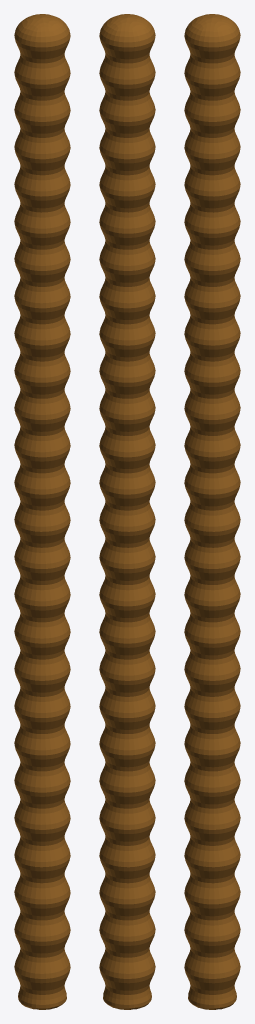
File: rope_model.fbx
The picture shows the model from 3 angles, left to right: view 1: azimuth 30°, elevation 25°; view 2: azimuth 150°, elevation 25°; view 3: azimuth 330°, elevation 25°; orthographic projection.
Parts seen in each view (by area): view 1: Cylinder; view 2: Cylinder; view 3: Cylinder.
Part boxes in pixels (box(x1,y1,x2,y2)): Cylinder: box(14, 14, 70, 1009); Cylinder: box(99, 14, 155, 1009); Cylinder: box(184, 14, 240, 1009).
Size of the model in its own units: 0.1037 by 2 by 0.1029.
